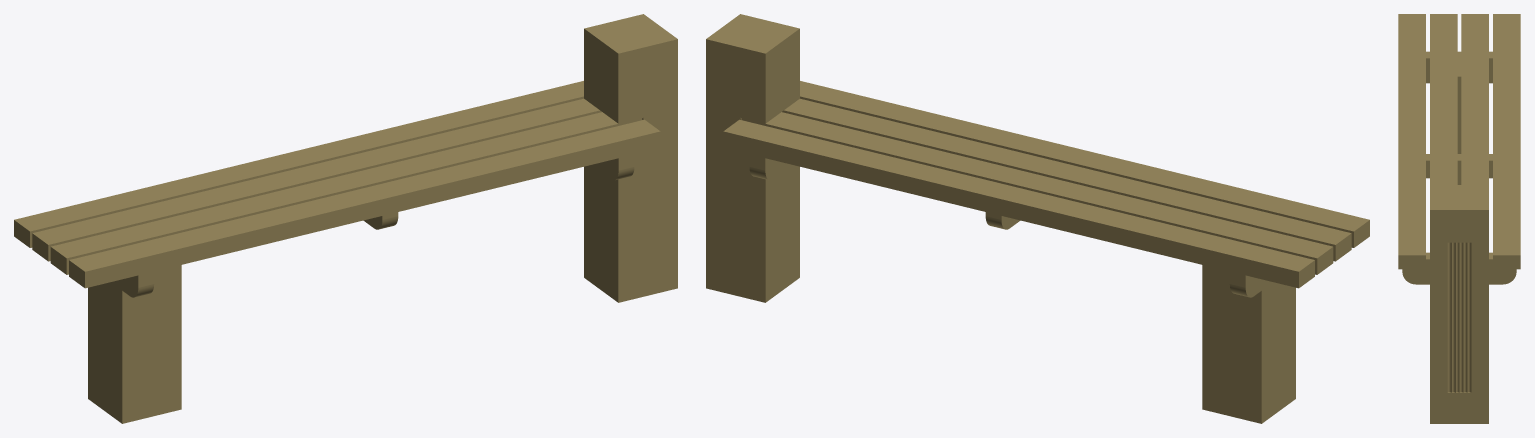
3 renders of one model, left to right at view 1: azimuth 30°, elevation 25°; view 2: azimuth 150°, elevation 25°; view 3: azimuth 270°, elevation 25°, orthographic. The views are drawn at different scales.
Visible parts, largest first — view 1: mesh1_mesh1-geometry, mesh9_mesh9-geometry, mesh12_mesh12-geometry, mesh5_mesh5-geometry, mesh7_mesh7-geometry, mesh3_mesh3-geometry, mesh14_mesh14-geometry, mesh16_mesh16-geometry; view 2: mesh1_mesh1-geometry, mesh5_mesh5-geometry, mesh12_mesh12-geometry, mesh9_mesh9-geometry, mesh3_mesh3-geometry, mesh7_mesh7-geometry, mesh14_mesh14-geometry, mesh16_mesh16-geometry; view 3: mesh1_mesh1-geometry, mesh5_mesh5-geometry, mesh9_mesh9-geometry, mesh3_mesh3-geometry, mesh7_mesh7-geometry, mesh16_mesh16-geometry, mesh12_mesh12-geometry, mesh18_mesh18-geometry, mesh14_mesh14-geometry.
Part boxes in pixels (<box>): mesh1_mesh1-geometry: <box>584,14,677,302</box>; mesh9_mesh9-geometry: <box>69,119,660,288</box>; mesh12_mesh12-geometry: <box>88,265,181,423</box>; mesh5_mesh5-geometry: <box>14,81,583,247</box>; mesh7_mesh7-geometry: <box>50,112,642,274</box>; mesh3_mesh3-geometry: <box>32,98,601,261</box>; mesh14_mesh14-geometry: <box>111,271,154,297</box>; mesh16_mesh16-geometry: <box>591,154,634,180</box>; mesh1_mesh1-geometry: <box>706,14,799,302</box>; mesh5_mesh5-geometry: <box>723,119,1314,288</box>; mesh12_mesh12-geometry: <box>1202,265,1295,423</box>; mesh9_mesh9-geometry: <box>800,81,1369,247</box>; mesh3_mesh3-geometry: <box>741,112,1333,274</box>; mesh7_mesh7-geometry: <box>782,98,1351,261</box>; mesh14_mesh14-geometry: <box>1229,271,1272,297</box>; mesh16_mesh16-geometry: <box>749,154,792,180</box>; mesh1_mesh1-geometry: <box>1430,185,1488,423</box>; mesh5_mesh5-geometry: <box>1493,14,1520,269</box>; mesh9_mesh9-geometry: <box>1398,14,1425,269</box>; mesh3_mesh3-geometry: <box>1461,14,1488,184</box>; mesh7_mesh7-geometry: <box>1430,14,1457,184</box>; mesh16_mesh16-geometry: <box>1402,252,1516,284</box>; mesh12_mesh12-geometry: <box>1457,58,1461,184</box>; mesh18_mesh18-geometry: <box>1426,154,1492,178</box>; mesh14_mesh14-geometry: <box>1426,51,1492,83</box>.
Size of the model in its own units: 0.9158 by 0.3568 by 0.1844.
